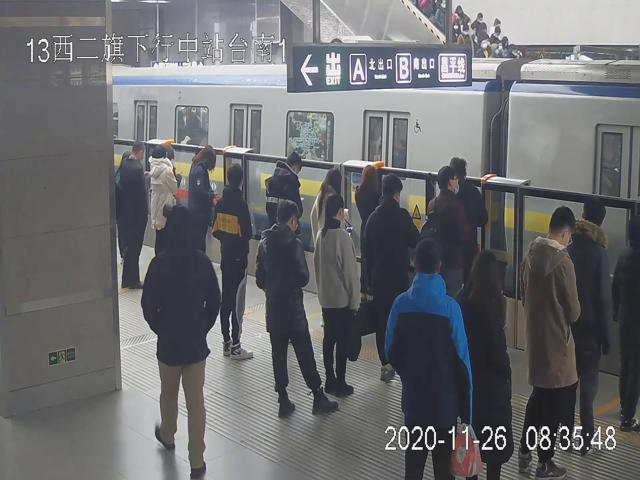person: (384, 236, 473, 480), (143, 204, 220, 480), (255, 199, 338, 419), (519, 207, 582, 480), (568, 196, 613, 459), (313, 193, 361, 399), (364, 173, 411, 382), (212, 162, 253, 360), (424, 166, 471, 300), (121, 139, 147, 288), (188, 144, 217, 251), (148, 144, 177, 248)
